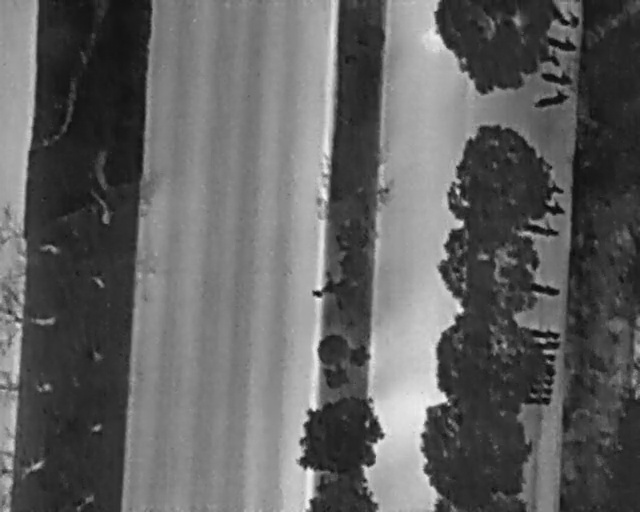Bicycle: (520, 216, 563, 244), (531, 84, 570, 112), (545, 29, 581, 56), (525, 277, 563, 299), (539, 67, 578, 88), (521, 325, 562, 342), (556, 10, 582, 30), (544, 52, 564, 69), (525, 395, 552, 407), (544, 201, 564, 216), (533, 341, 562, 351), (529, 385, 555, 396), (549, 184, 567, 197), (541, 363, 558, 376), (531, 376, 555, 385), (537, 353, 557, 361)
